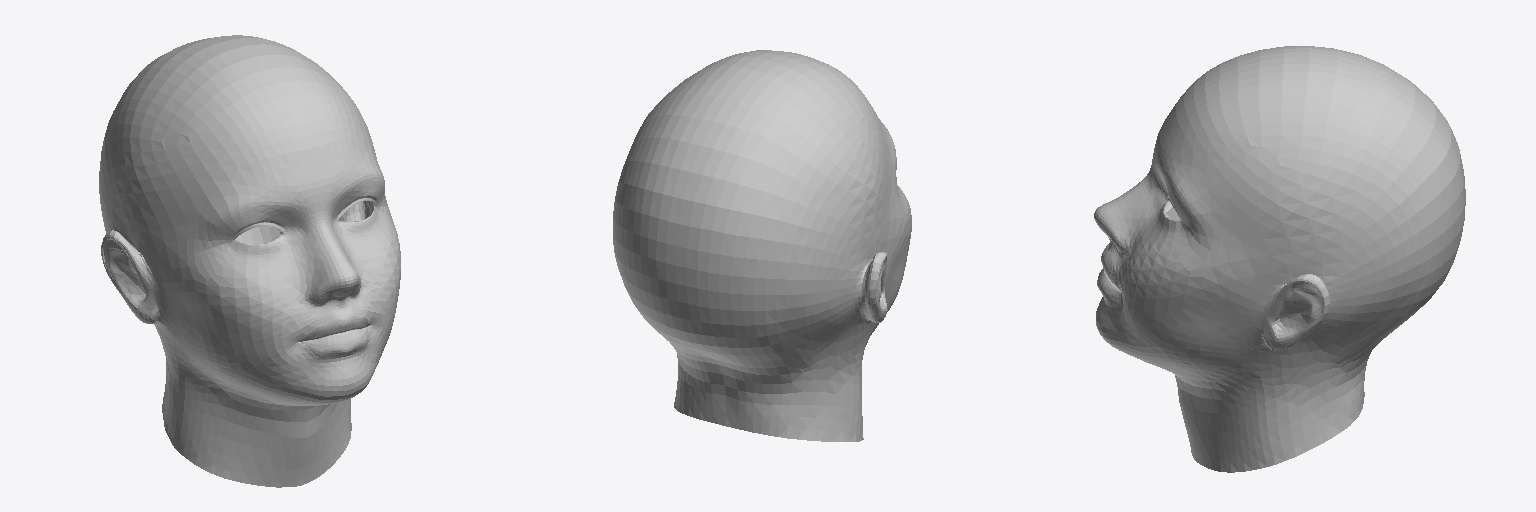
Rendered from mmm.obj.
The picture shows the model from 3 angles: view 1: azimuth 30°, elevation 25°; view 2: azimuth 150°, elevation 25°; view 3: azimuth 270°, elevation 25°; orthographic projection.
Visible parts, largest first — view 1: Mesh_skin_hi.001; view 2: Mesh_skin_hi.001; view 3: Mesh_skin_hi.001.
Part boxes in pixels (bbox=[...]): Mesh_skin_hi.001: bbox=[99, 35, 400, 487]; Mesh_skin_hi.001: bbox=[613, 50, 911, 441]; Mesh_skin_hi.001: bbox=[1094, 46, 1465, 472].
Size of the model in its own units: 198 by 283 by 241.